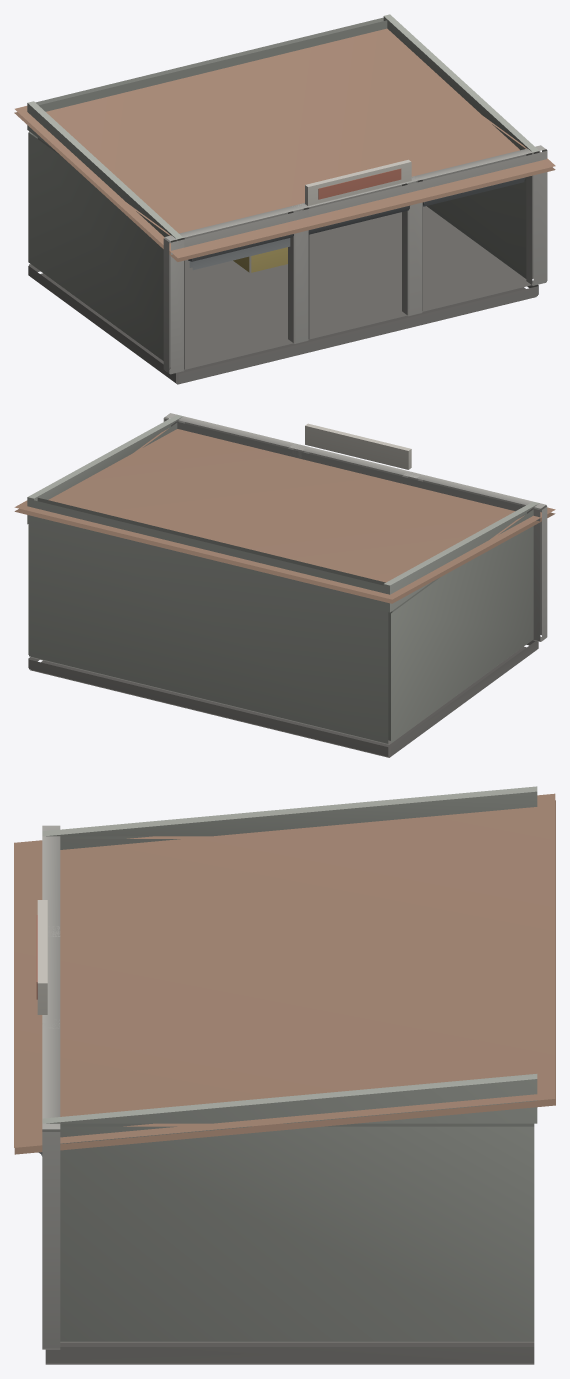
File: mil_workshop.lod.glb
The picture shows the model from 3 angles, top to bottom: view 1: azimuth 30°, elevation 25°; view 2: azimuth 150°, elevation 25°; view 3: azimuth 270°, elevation 25°; orthographic projection. The views are drawn at different scales.
Parts seen in each view (by area): view 1: mil_workshop; view 2: mil_workshop; view 3: mil_workshop.
Boxes of the visible parts, x1,y1,x2,y2 form: mil_workshop: (14,14,555,384); mil_workshop: (14,413,555,757); mil_workshop: (14,786,555,1364).
Size of the model in its own units: 14.6 by 6.4 by 10.96.
